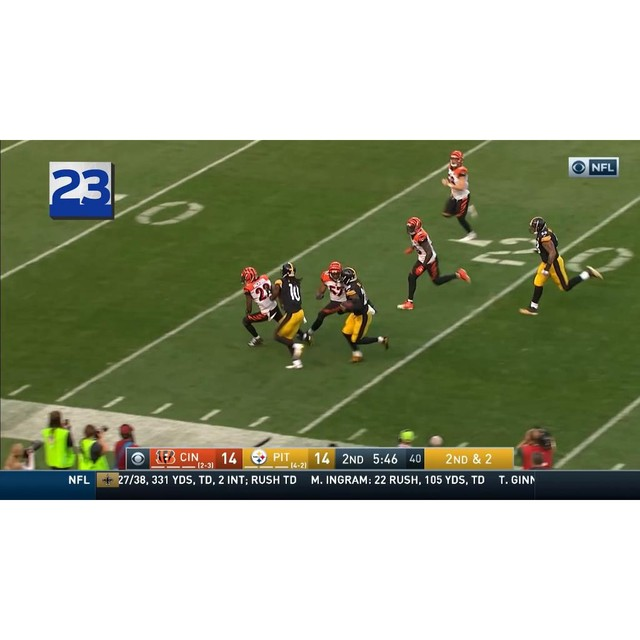american-football-player: (520, 215, 605, 313), (398, 216, 472, 310), (239, 265, 298, 362), (304, 260, 358, 350), (338, 272, 390, 362), (269, 263, 310, 367), (437, 151, 483, 239), (514, 426, 556, 470)
